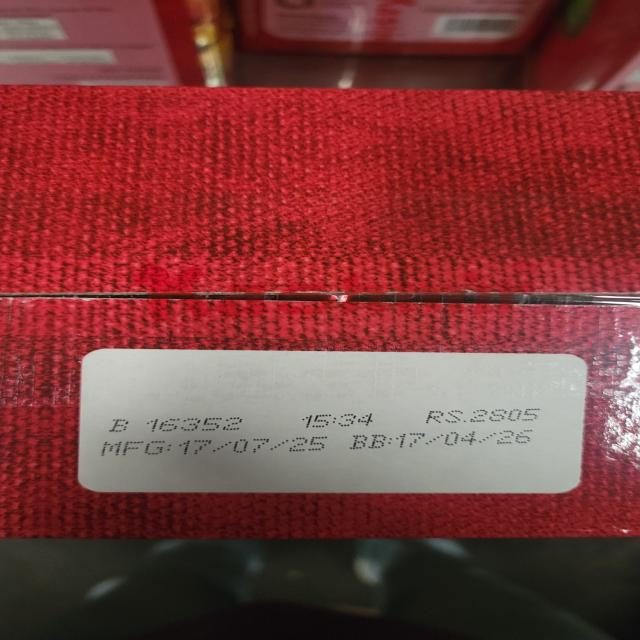BB: (352, 428, 542, 452)
Batch: (107, 416, 254, 434)
MFG: (98, 434, 333, 460)
RS: (426, 409, 542, 425)
TimeStamp: (298, 412, 379, 431)
